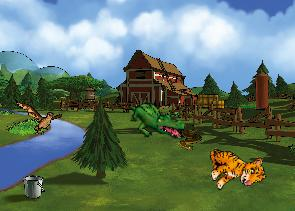crocodile: (125, 101, 186, 140)
eagle: (15, 99, 62, 135)
tiger: (204, 138, 267, 195)
